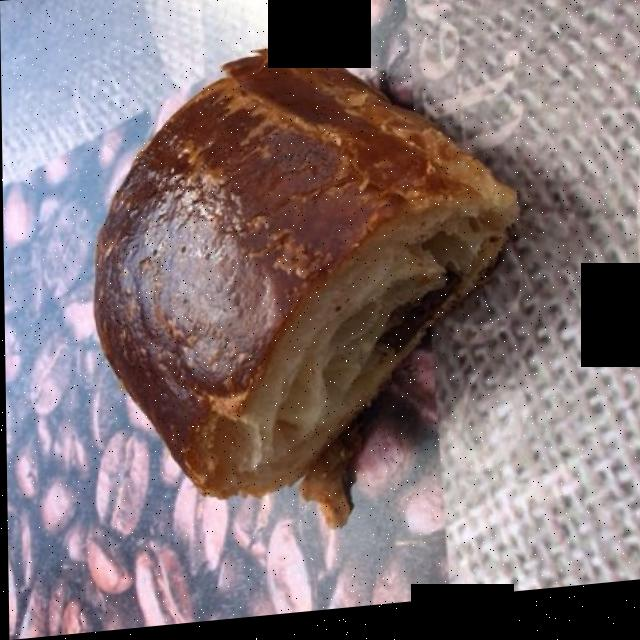croissant-with-chocolate-filling: (100, 56, 505, 509)
